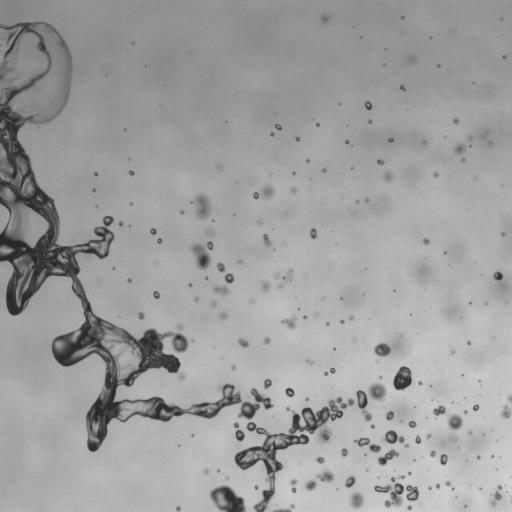droplet: (374, 475, 418, 507), (209, 485, 246, 511), (190, 242, 213, 269), (392, 366, 411, 390), (194, 193, 211, 219), (253, 184, 274, 199), (382, 430, 404, 443), (349, 492, 364, 508), (373, 343, 391, 356), (316, 470, 334, 482), (281, 316, 296, 329), (213, 285, 229, 295), (454, 143, 466, 154), (304, 479, 316, 490), (282, 269, 292, 282), (501, 405, 511, 418), (345, 476, 355, 487), (262, 234, 271, 246), (224, 273, 234, 283), (384, 172, 393, 182), (238, 338, 248, 347), (439, 454, 447, 465), (493, 271, 502, 280), (285, 388, 294, 397), (216, 262, 224, 272), (386, 411, 394, 420), (262, 281, 269, 291), (264, 379, 271, 388), (310, 228, 316, 238), (320, 15, 328, 22), (365, 101, 372, 109), (218, 312, 226, 319), (263, 336, 270, 344), (408, 420, 416, 427), (316, 456, 324, 463), (415, 435, 421, 443), (341, 448, 347, 456), (408, 56, 415, 62), (153, 291, 159, 298), (138, 312, 144, 319), (473, 404, 479, 411), (275, 124, 281, 130), (290, 187, 296, 193), (150, 228, 156, 234), (423, 238, 429, 244), (306, 359, 313, 364), (430, 450, 435, 457), (377, 159, 383, 164), (274, 273, 279, 279), (211, 301, 216, 307), (400, 85, 405, 90), (453, 118, 458, 123), (129, 170, 134, 175), (433, 172, 438, 177), (118, 221, 123, 226), (208, 231, 213, 236), (330, 368, 335, 373), (204, 469, 209, 474), (468, 136, 472, 141), (257, 220, 262, 224), (157, 238, 161, 243), (349, 315, 353, 320), (231, 365, 235, 370), (445, 481, 450, 485), (176, 506, 180, 511), (461, 158, 465, 162), (322, 168, 326, 172), (180, 210, 184, 214), (501, 232, 505, 236), (238, 259, 242, 263), (278, 284, 282, 288), (194, 297, 198, 301), (250, 299, 254, 303), (418, 381, 422, 385), (370, 424, 374, 428), (476, 455, 480, 459), (254, 485, 258, 489), (368, 120, 372, 123), (316, 122, 319, 126), (271, 132, 274, 136), (295, 137, 299, 140), (389, 138, 393, 141), (345, 140, 349, 143), (94, 172, 98, 175), (127, 279, 131, 282), (303, 315, 306, 319), (340, 320, 344, 323), (305, 397, 308, 401), (427, 434, 430, 438), (436, 484, 439, 488), (407, 506, 411, 509), (502, 55, 505, 58), (188, 283, 191, 286), (467, 341, 470, 344), (324, 372, 327, 375), (464, 410, 467, 413), (405, 444, 408, 447), (316, 312, 318, 316), (401, 16, 404, 18), (306, 159, 309, 161), (292, 172, 295, 174), (365, 199, 368, 201), (130, 202, 132, 205), (451, 351, 454, 353), (379, 376, 382, 378), (469, 431, 471, 434), (428, 487, 431, 489), (423, 142, 425, 144), (356, 200, 358, 202), (326, 323, 328, 325), (217, 469, 219, 471), (408, 472, 410, 474)
ligament: (0, 22, 384, 511), (433, 404, 462, 442), (354, 437, 381, 453), (377, 448, 399, 465), (490, 485, 502, 506), (233, 422, 244, 441), (272, 504, 294, 511), (290, 478, 297, 492), (507, 394, 511, 403), (510, 496, 511, 499)
